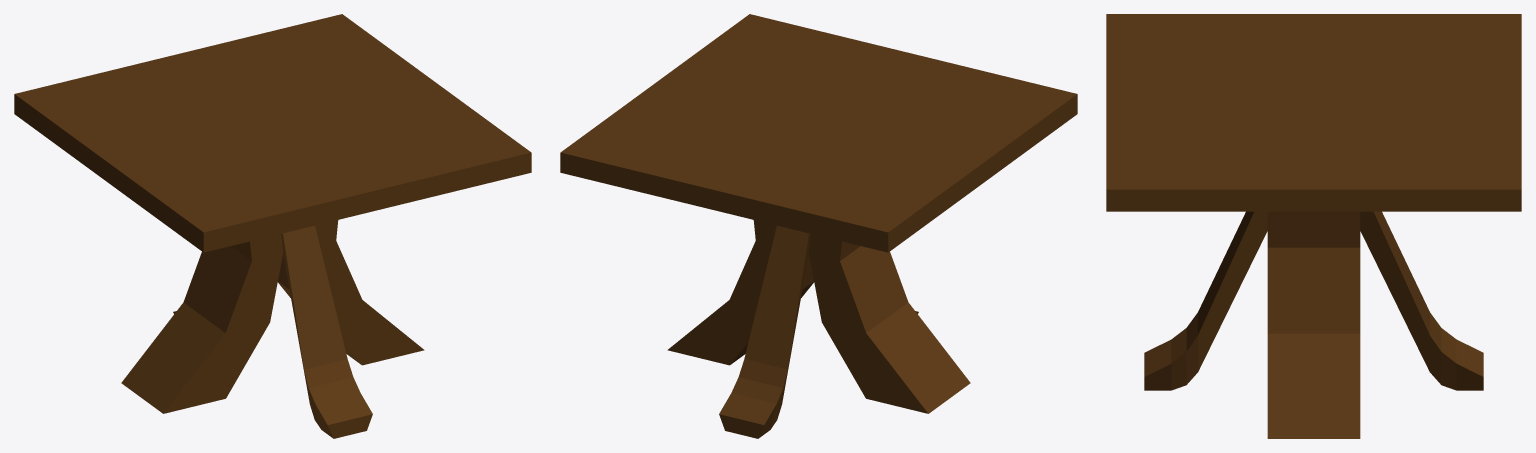
The model's file is Table_GameTest.fbx.
3 renders of one model, left to right at view 1: azimuth 30°, elevation 25°; view 2: azimuth 150°, elevation 25°; view 3: azimuth 270°, elevation 25°, orthographic. The views are drawn at different scales.
Visible parts, largest first — view 1: Table; view 2: Table; view 3: Table.
Boxes of the visible parts, bbox=[...] form: Table: bbox=[14, 14, 531, 438]; Table: bbox=[560, 14, 1077, 438]; Table: bbox=[1106, 14, 1521, 438].
Bounding box in the file's own units: 441 × 328 × 441.
